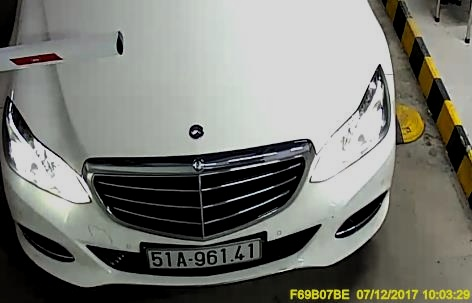plate: (144, 238, 268, 271)
